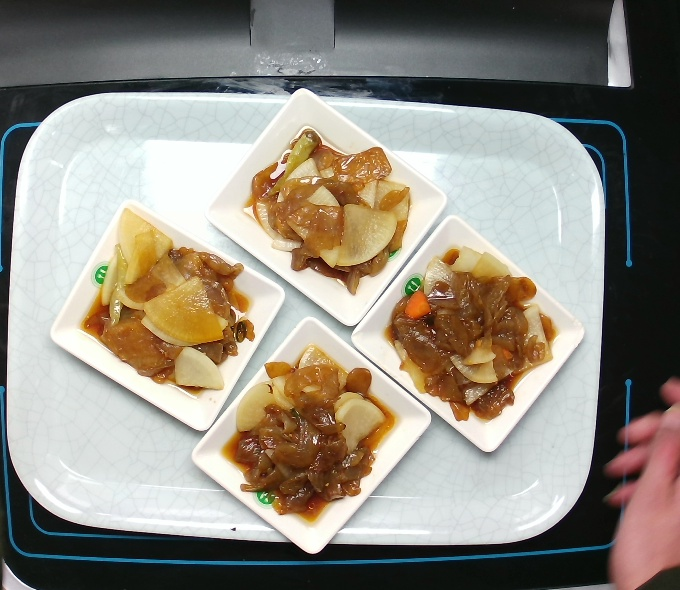wcq-HaiZheTou: (82, 204, 263, 400), (384, 239, 564, 424), (245, 123, 416, 302), (221, 341, 390, 517)
